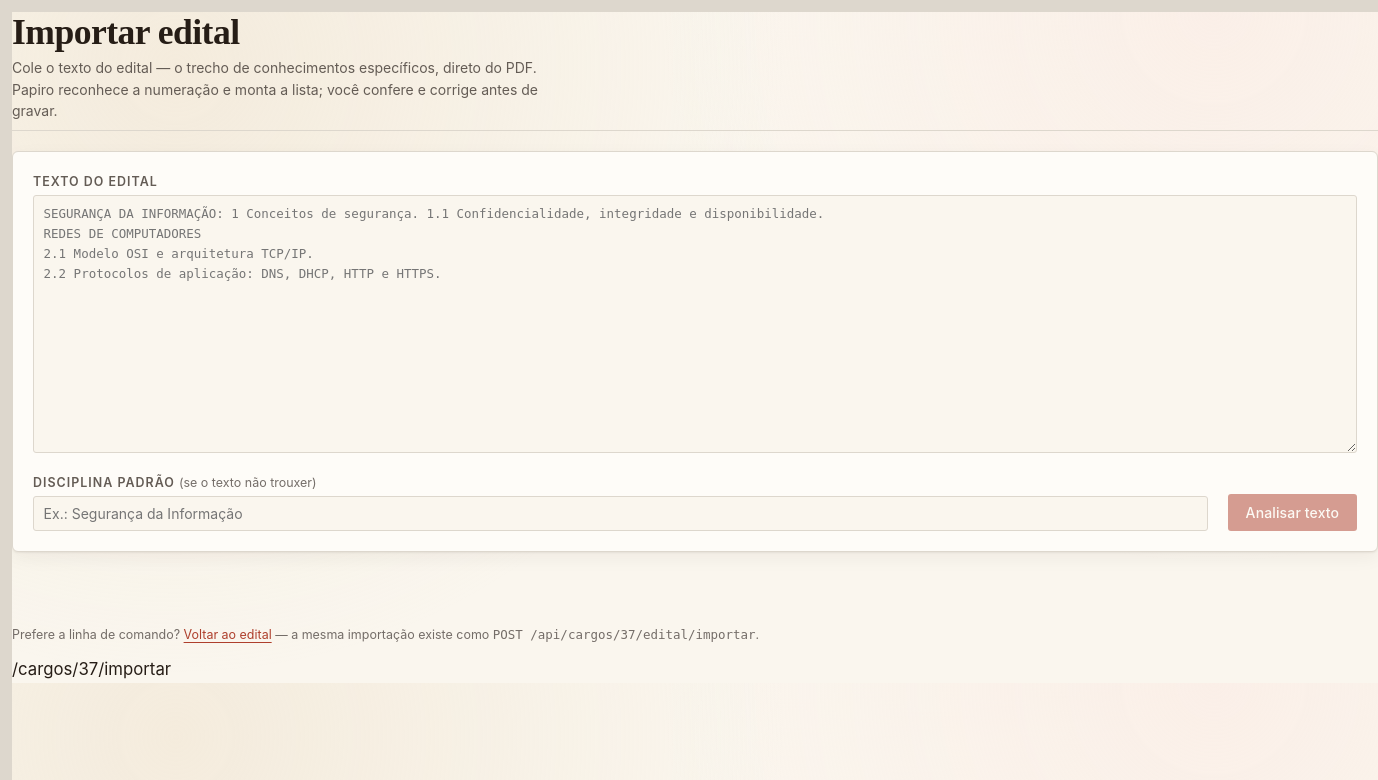
Scenario: PaginaImportar — analise › o botao de analisar so liga quando ha texto
Expected: the button "Analisar texto" is disabled, [1228,494,1357,531]
Click the text box labelled "Texto do edital" at (695, 324), box [33,195,1357,453]
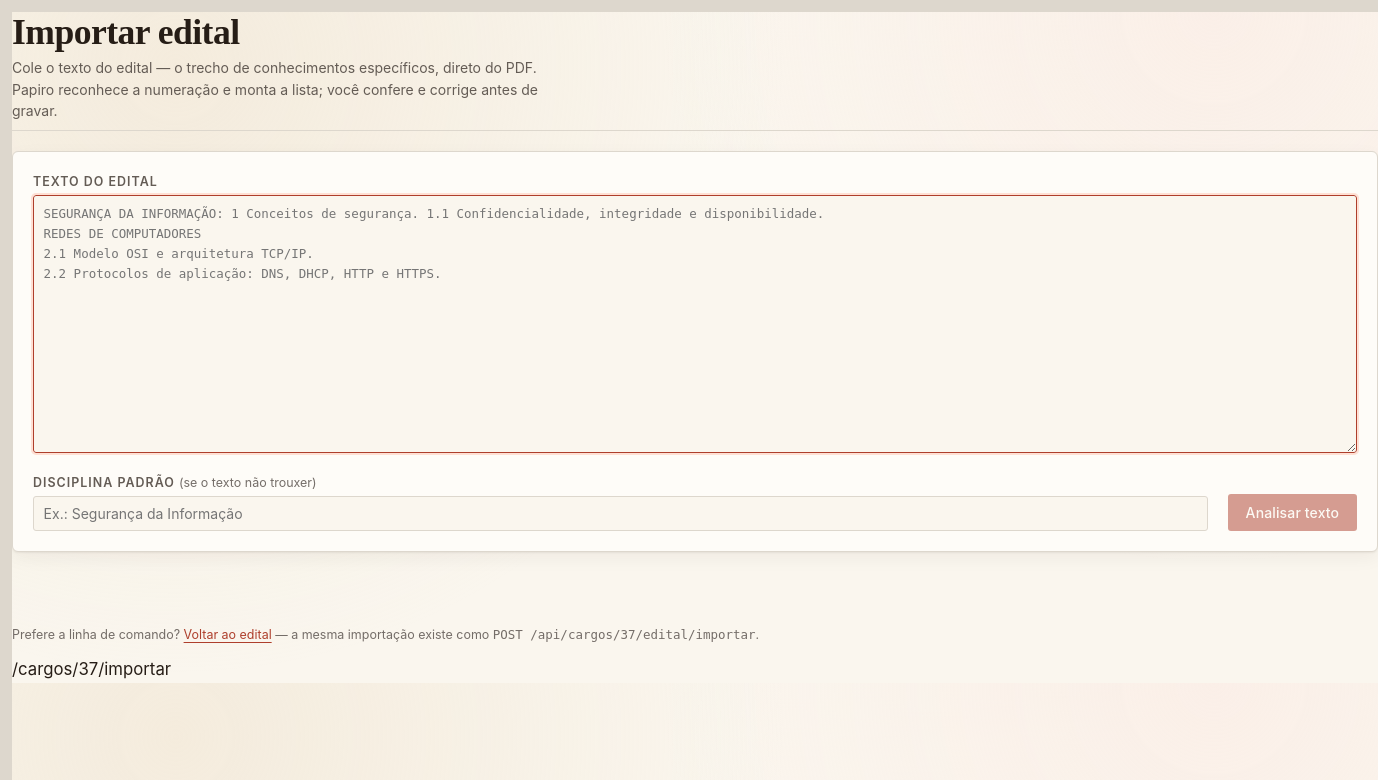
Type keys "1.1 Algo."
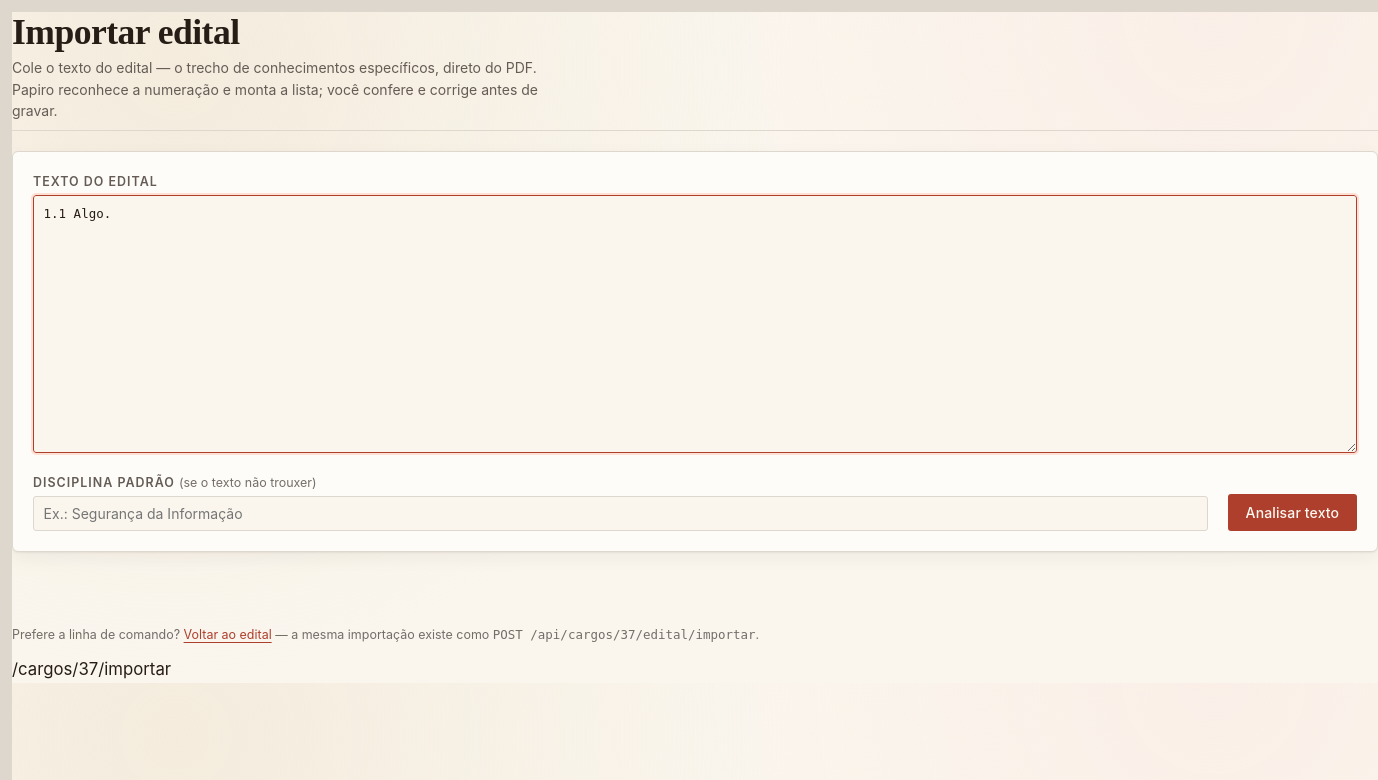
Now the button "Analisar texto" is enabled, box [1228,494,1357,531]
